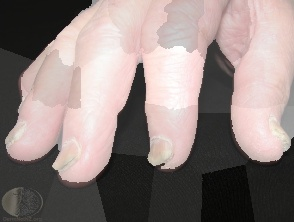Nail_psoriasis: (40, 129, 98, 186), (0, 107, 43, 160), (255, 109, 294, 160), (143, 132, 179, 174)
